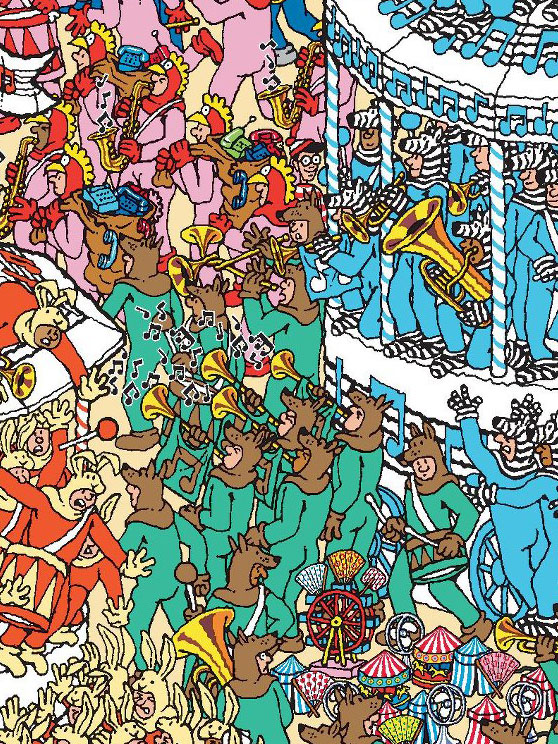waldo: (288, 135, 322, 182)
